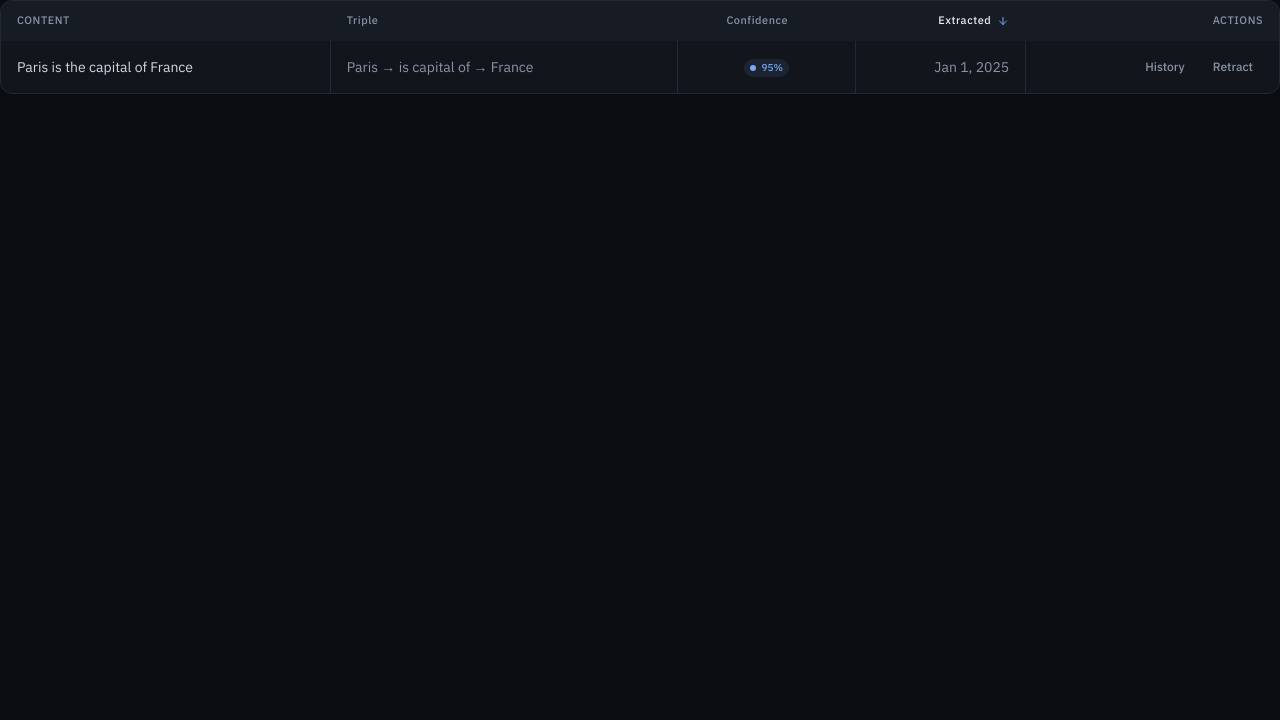
SessionFactsPage › opens the history dialog and renders event kind and reason
Expected: the text "Paris is the capital of France" is shown, [1, 40, 330, 92]
Click the button "History".
click(1165, 66)  # box [1135, 52, 1195, 80]
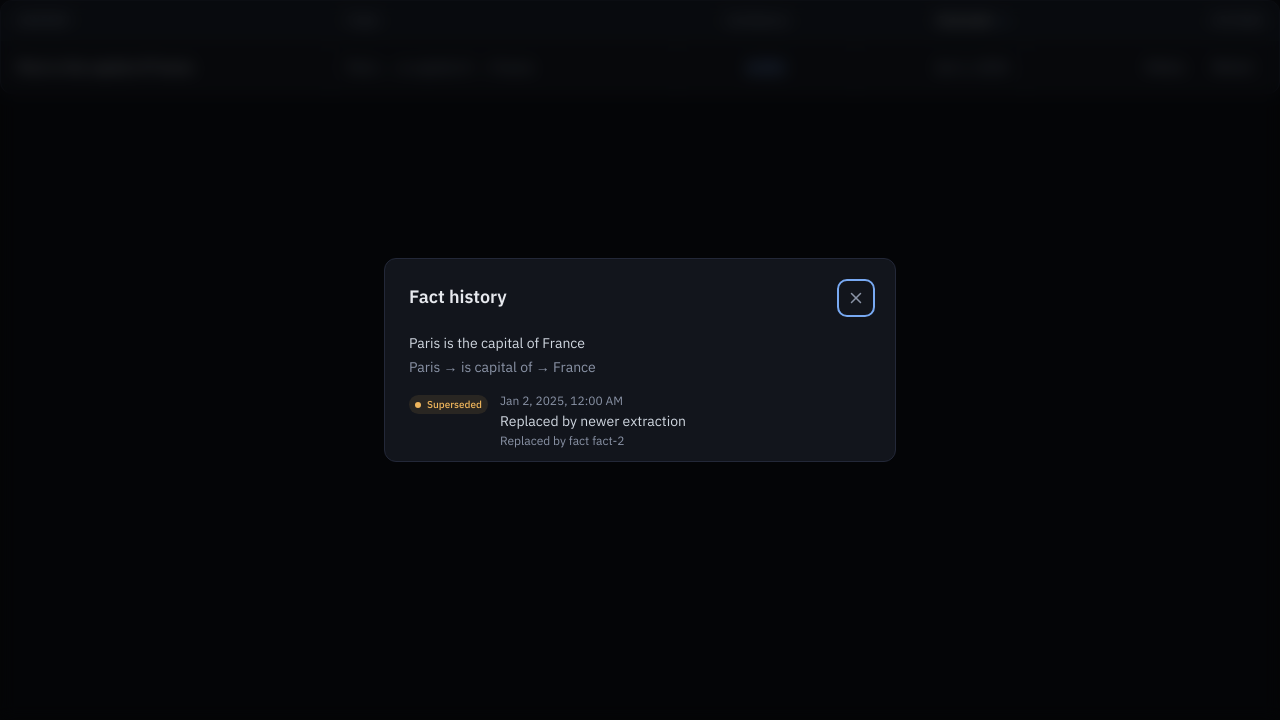
Expected: the dialog is shown, [384, 258, 896, 462]
Expected: the heading "Fact history" is shown, [409, 285, 507, 308]
Expected: the text "Superseded" is shown, [409, 395, 488, 414]
